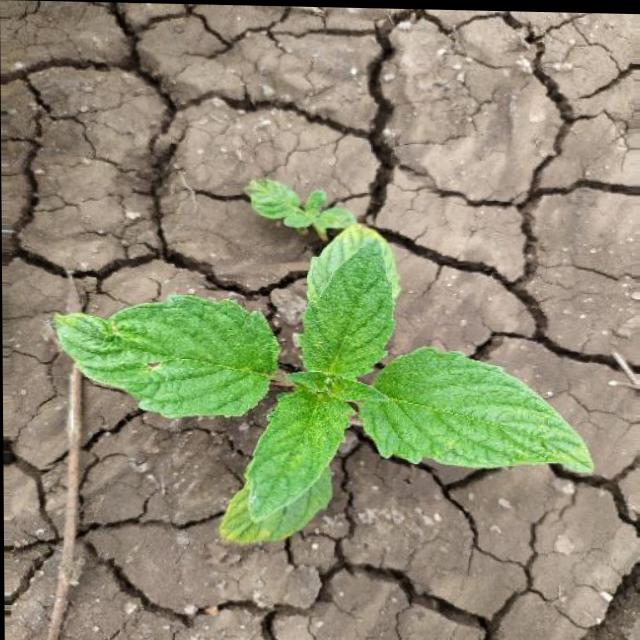crop: (49, 213, 605, 558)
